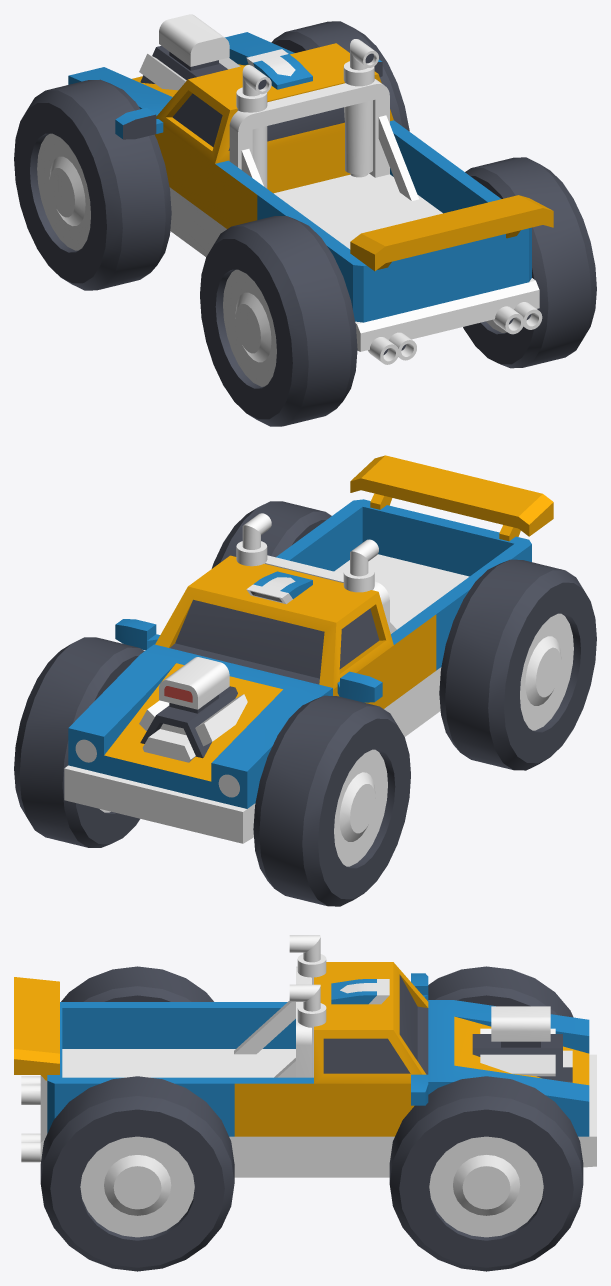
The model's file is Player Monster Truck.fbx.
3 renders of one model, top to bottom at view 1: azimuth 30°, elevation 25°; view 2: azimuth 150°, elevation 25°; view 3: azimuth 270°, elevation 25°, orthographic. The views are drawn at different scales.
Visible parts, largest first — view 1: wheel_large_50, windshield_truck_14, wheel_large_49, trunk_bed_12, wheel_large_47, detail_spoilerRound_54, detail_rollbar_20, detail_engine_19, detail_exhaustVertical_24, hood_square_16, wheel_large_48, detail_exhaustVertical_25 (+4 smaller); view 2: wheel_large_50, wheel_large_49, hood_square_16, windshield_truck_14, trunk_bed_12, wheel_large_48, detail_spoilerRound_54, detail_engine_19, wheel_large_47, engine_intakeArrow_35, detail_exhaustVertical_25, detail_exhaustVertical_24 (+3 smaller); view 3: windshield_truck_14, wheel_large_47, wheel_large_48, trunk_bed_12, hood_square_16, detail_engine_19, detail_spoilerRound_54, wheel_large_49, wheel_large_50, detail_rollbar_20, engine_intakeArrow_35, detail_exhaustVertical_24 (+2 smaller).
Part boxes in pixels (<box>): wheel_large_50: <box>200,216,357,426</box>; windshield_truck_14: <box>155,43,435,256</box>; wheel_large_49: <box>14,79,171,290</box>; trunk_bed_12: <box>257,151,539,351</box>; wheel_large_47: <box>463,157,596,368</box>; detail_spoilerRound_54: <box>350,195,553,271</box>; detail_rollbar_20: <box>229,79,418,200</box>; detail_engine_19: <box>139,14,240,90</box>; detail_exhaustVertical_24: <box>343,39,378,177</box>; hood_square_16: <box>68,32,294,115</box>; wheel_large_48: <box>271,21,409,131</box>; detail_exhaustVertical_25: <box>236,65,271,188</box>; wheel_large_50: <box>439,559,596,770</box>; wheel_large_49: <box>253,695,410,906</box>; hood_square_16: <box>64,644,332,843</box>; windshield_truck_14: <box>155,555,436,736</box>; trunk_bed_12: <box>276,499,531,713</box>; wheel_large_48: <box>14,637,144,847</box>; detail_spoilerRound_54: <box>350,455,553,541</box>; detail_engine_19: <box>139,657,247,762</box>; wheel_large_47: <box>211,501,331,568</box>; engine_intakeArrow_35: <box>246,571,312,604</box>; detail_exhaustVertical_25: <box>343,539,378,592</box>; detail_exhaustVertical_24: <box>236,513,271,566</box>; windshield_truck_14: <box>234,962,428,1177</box>; wheel_large_47: <box>40,1076,234,1271</box>; wheel_large_48: <box>389,1076,583,1271</box>; trunk_bed_12: <box>40,1002,234,1163</box>; hood_square_16: <box>428,1000,596,1167</box>; detail_engine_19: <box>472,1006,572,1082</box>; detail_spoilerRound_54: <box>14,977,59,1080</box>; wheel_large_49: <box>428,966,573,1017</box>; wheel_large_50: <box>61,966,213,1001</box>; detail_rollbar_20: <box>234,966,311,1077</box>; engine_intakeArrow_35: <box>331,979,389,1004</box>; detail_exhaustVertical_24: <box>289,984,326,1077</box>.
Size of the model in its own units: 17 by 14.01 by 30.08.
